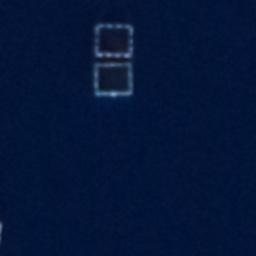square_solid: (89, 57, 137, 101), (88, 19, 137, 62)
